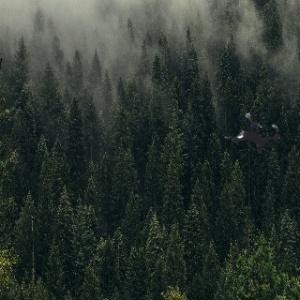drone: (215, 94, 298, 177)
